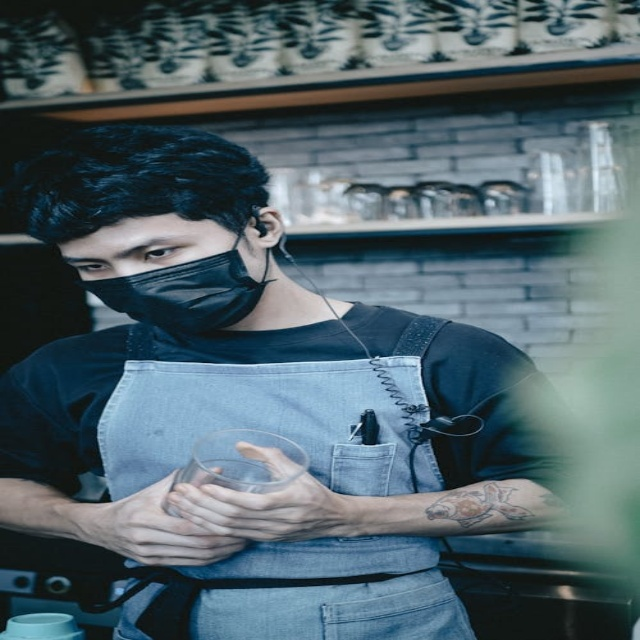Mascara: (76, 221, 275, 337)
Sin_gafas: (61, 229, 210, 274)
Sin_guantes: (158, 439, 348, 546), (102, 459, 255, 567)
